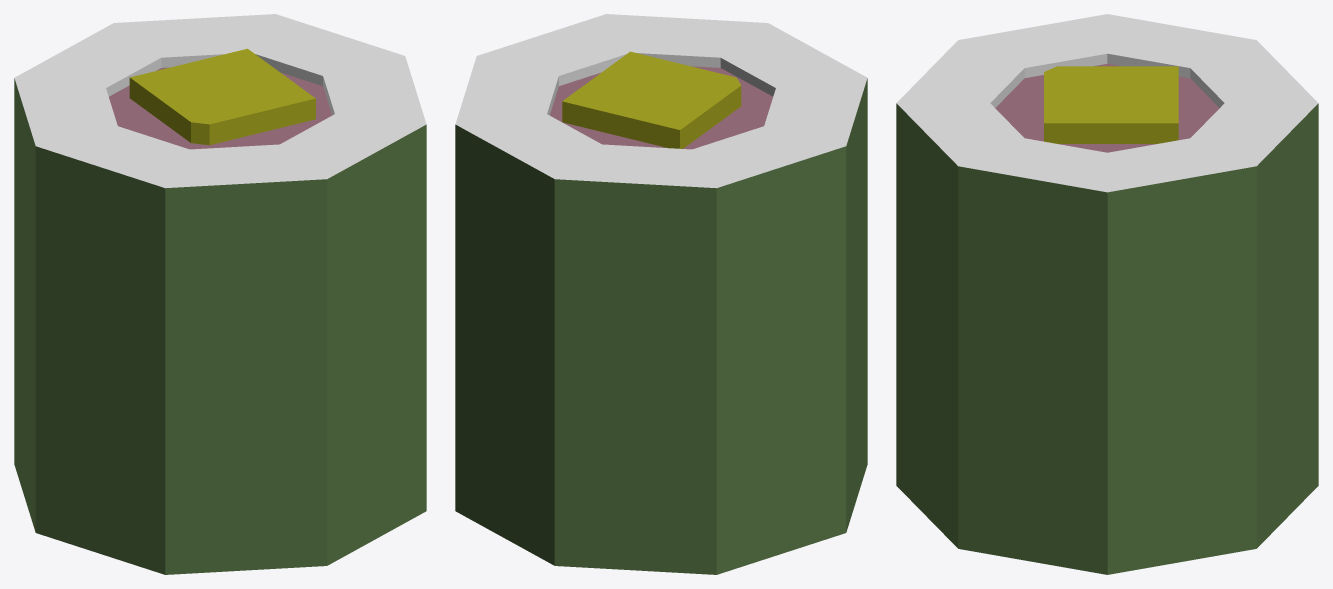
Rendered from SushiRoll2.fbx.
3 views of the same model, side by side, from view 1: azimuth 30°, elevation 25°; view 2: azimuth 150°, elevation 25°; view 3: azimuth 270°, elevation 25° (orthographic).
Parts seen in each view (by area): view 1: SushiRoll, Meat1; view 2: SushiRoll, Meat1; view 3: SushiRoll, Meat1.
Boxes of the visible parts, <box> form: SushiRoll: <box>14,14,426,574</box>; Meat1: <box>129,48,315,145</box>; SushiRoll: <box>455,14,867,574</box>; Meat1: <box>562,51,741,148</box>; SushiRoll: <box>896,14,1318,574</box>; Meat1: <box>1044,66,1178,143</box>.
Size of the model in its own units: 7.3 by 7.5 by 7.3.
